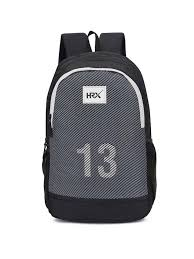backpack: (41, 30, 157, 223)
